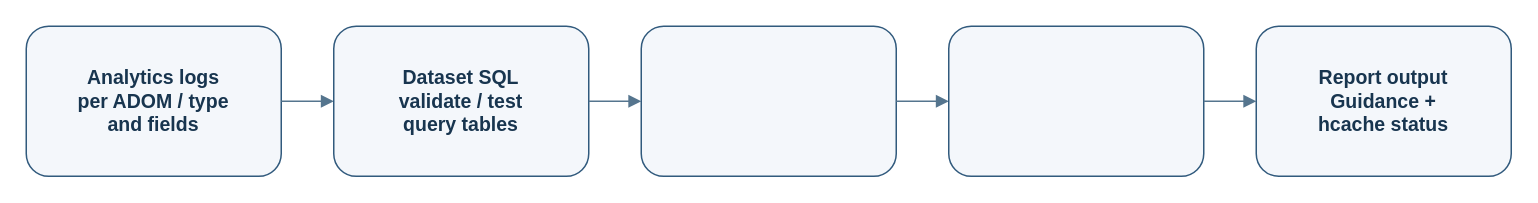
This 1538x203 diagram has some shape labels left out. Here are the shapes that lost their labels. From the top down, the centre of each, then its label:
point 768,100: Chart + Macro consume dataset render values
point 1075,100: Report definition assemble pages and objects
